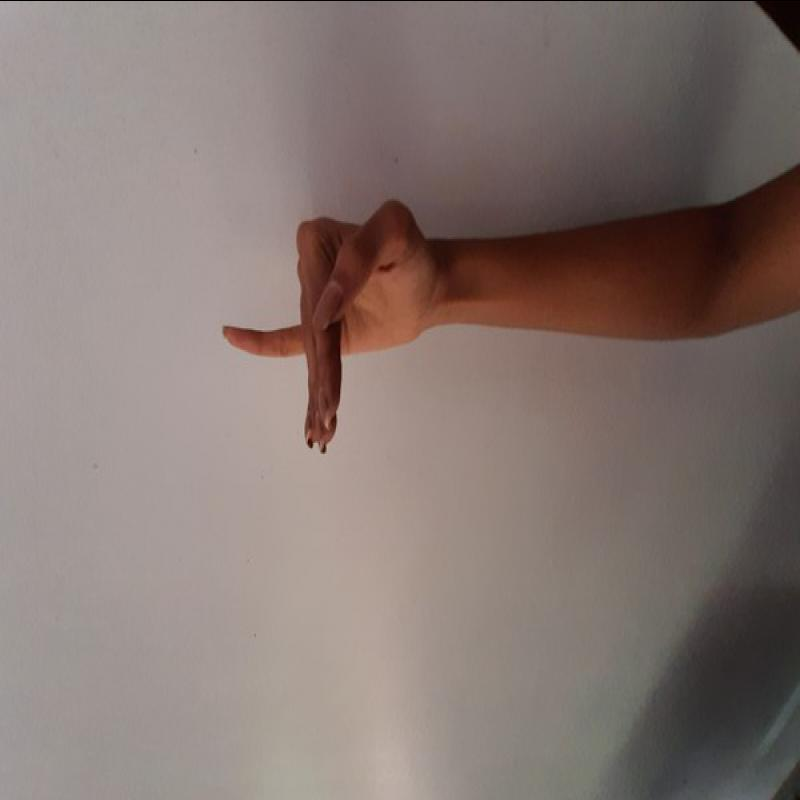Kartharee Mukham: (215, 194, 441, 469)
